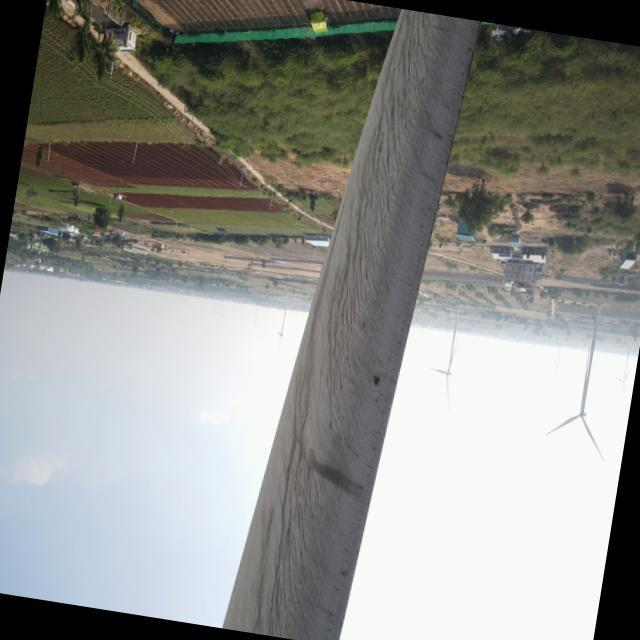Dirt: (222, 3, 484, 640)
Pin Hole: (371, 370, 382, 390)
